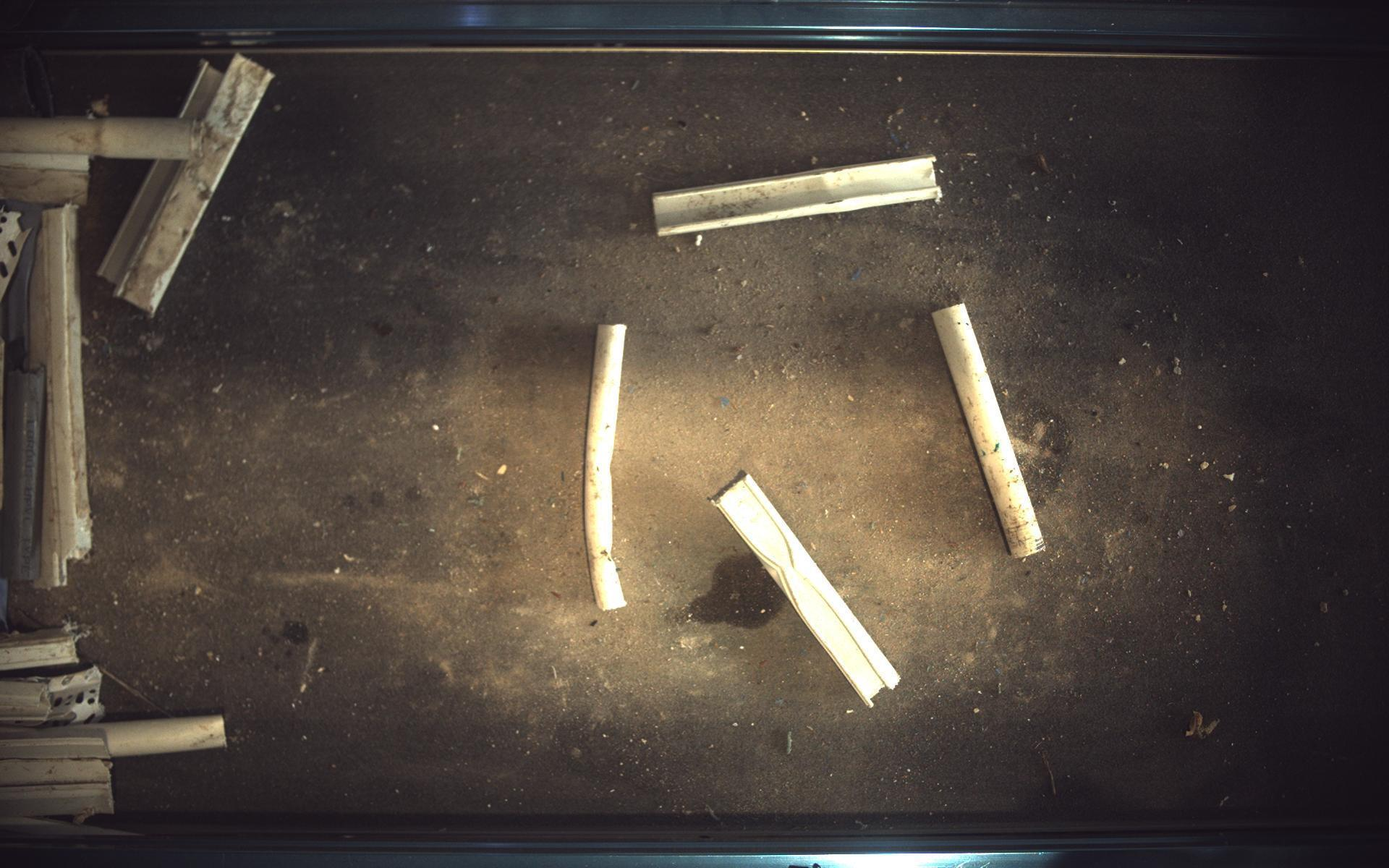pipes: (934, 303, 1046, 558), (585, 323, 627, 612), (1, 115, 198, 159), (102, 716, 225, 759)
plastic: (96, 54, 272, 313), (712, 471, 901, 708), (28, 203, 90, 588), (654, 155, 944, 235), (1, 725, 113, 825), (1, 666, 103, 728), (1, 152, 88, 204), (1, 623, 88, 672)
